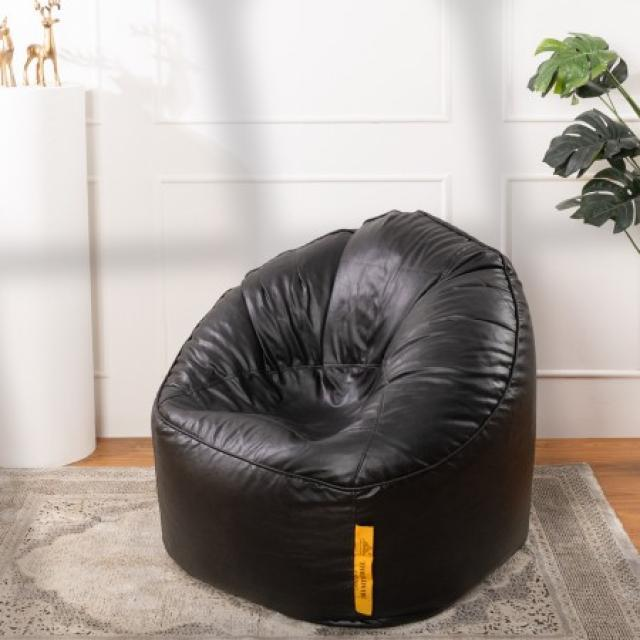sofa: (149, 206, 538, 627)
